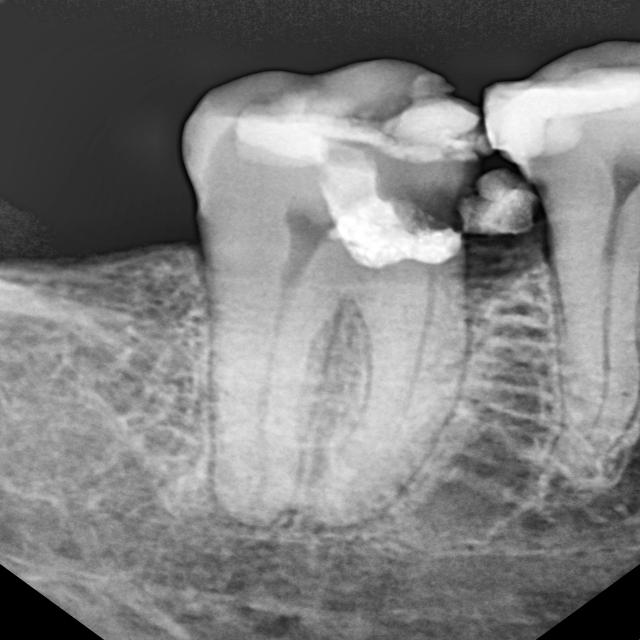Caries: (420, 136, 556, 288)
